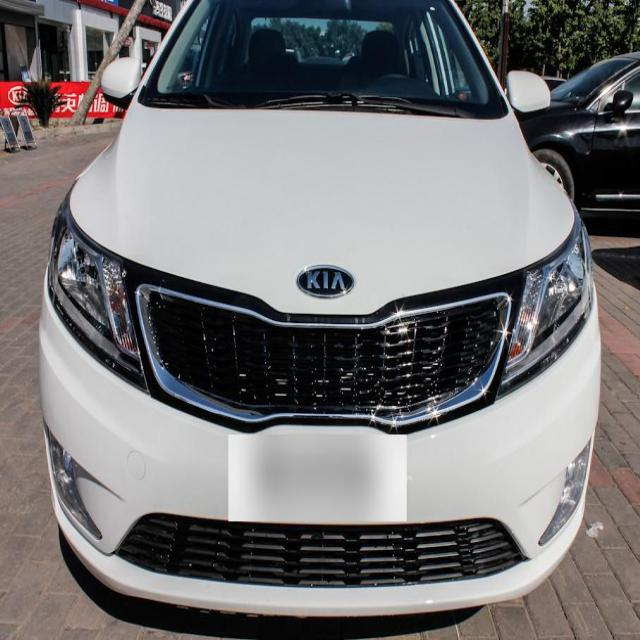front_bumper: (38, 279, 601, 620)
front_glass: (142, 2, 500, 109)
front_left_side_light: (498, 214, 592, 394)
front_left_side_mirror: (503, 64, 555, 120)
front_right_side_light: (52, 208, 145, 388)
front_right_side_mirror: (104, 51, 144, 114)
